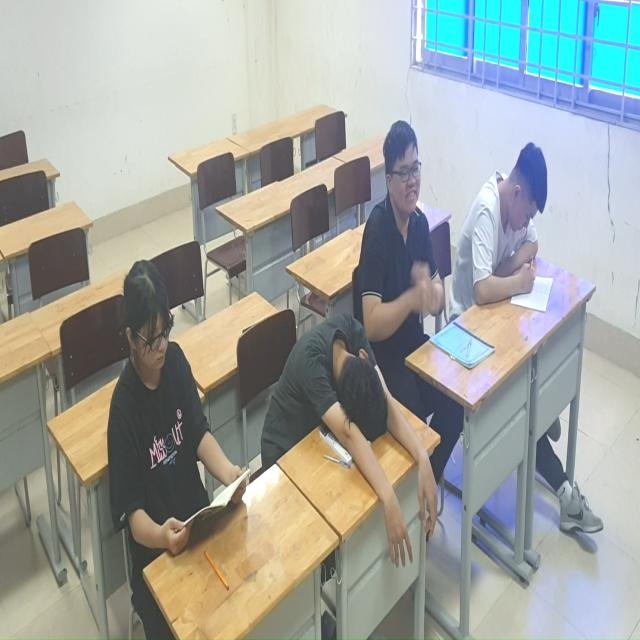read: (102, 231, 271, 571), (458, 136, 557, 325)
sleep: (274, 308, 440, 572)
